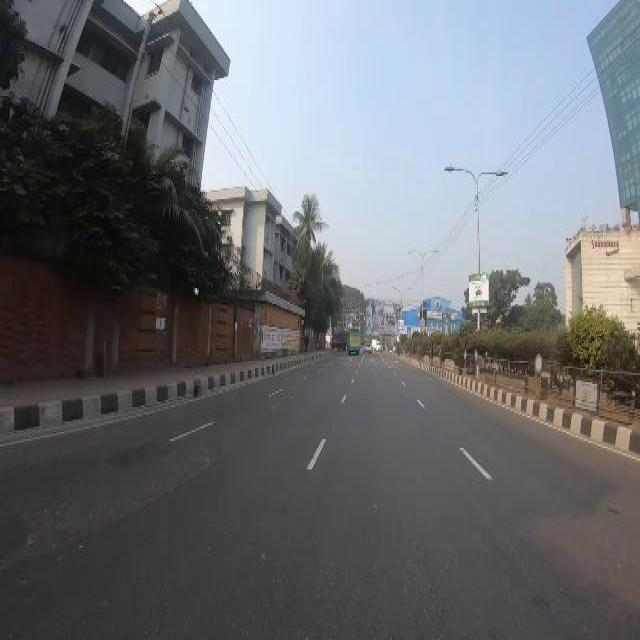11: (372, 337, 382, 353)
18: (329, 326, 347, 350)
5: (362, 342, 372, 355)
Truck: (346, 328, 360, 355)
